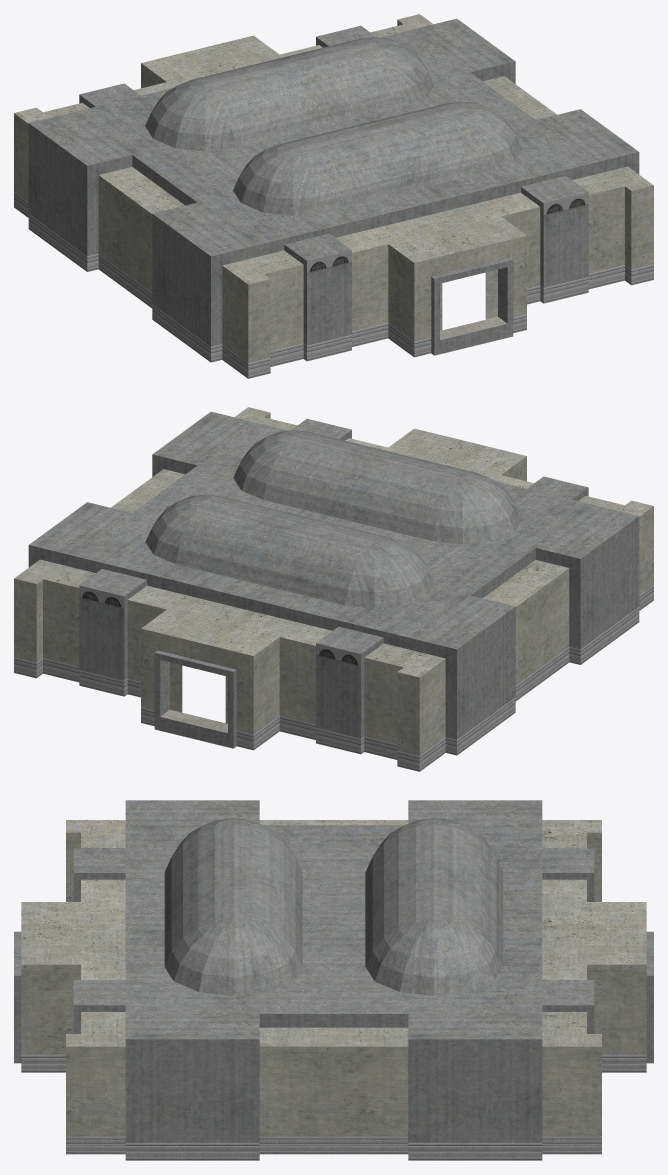
Rendered from mun_all_hospital_s02_r0_mesh_l0.fbx.
3 views of the same model, one above another, from view 1: azimuth 30°, elevation 25°; view 2: azimuth 150°, elevation 25°; view 3: azimuth 270°, elevation 25° (orthographic). The views are drawn at different scales.
Parts seen in each view (by area): view 1: mesh_node; view 2: mesh_node; view 3: mesh_node.
Part boxes in pixels (x1,y1,x2,y2): mesh_node: (14,14,653,378); mesh_node: (14,407,653,771); mesh_node: (14,800,653,1160).
Size of the model in its own units: 38 by 12.56 by 43.
